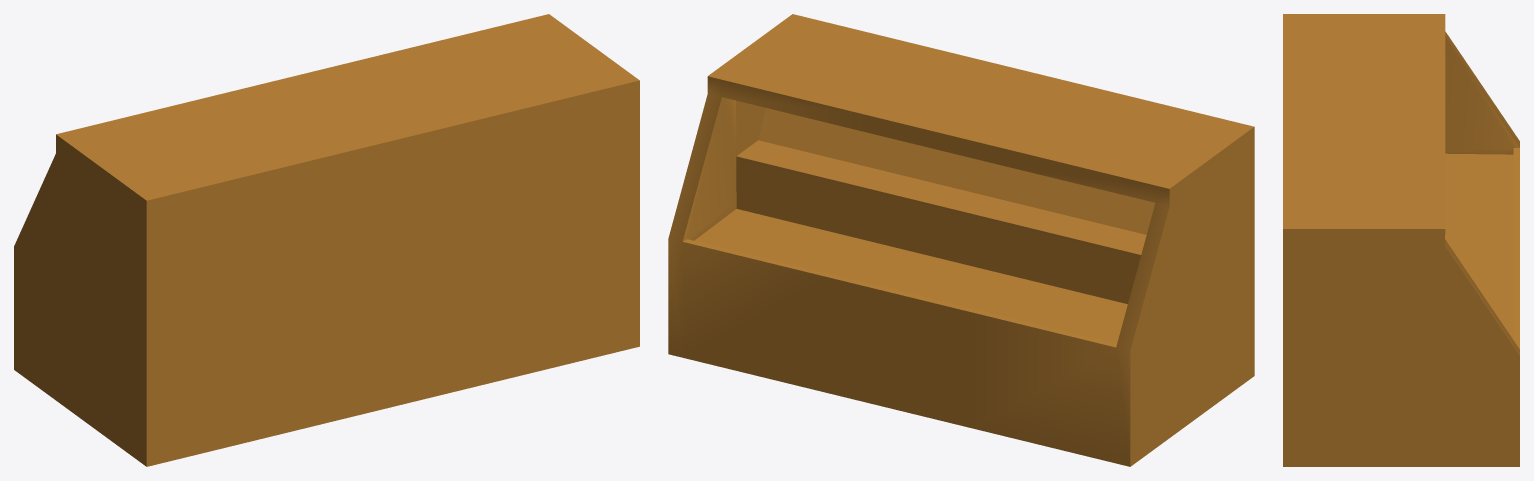
Rendered from ShelfFrozen.glb.
3 renders of one model, left to right at view 1: azimuth 30°, elevation 25°; view 2: azimuth 150°, elevation 25°; view 3: azimuth 270°, elevation 25°, orthographic. The views are drawn at different scales.
Parts seen in each view (by area): view 1: Box003; view 2: Box003; view 3: Box003.
Boxes of the visible parts, x1,y1,x2,y2 form: Box003: (14,14,639,466); Box003: (668,14,1254,466); Box003: (1283,14,1519,466).
Size of the model in its own units: 2.01 by 1.04 by 0.9363.
